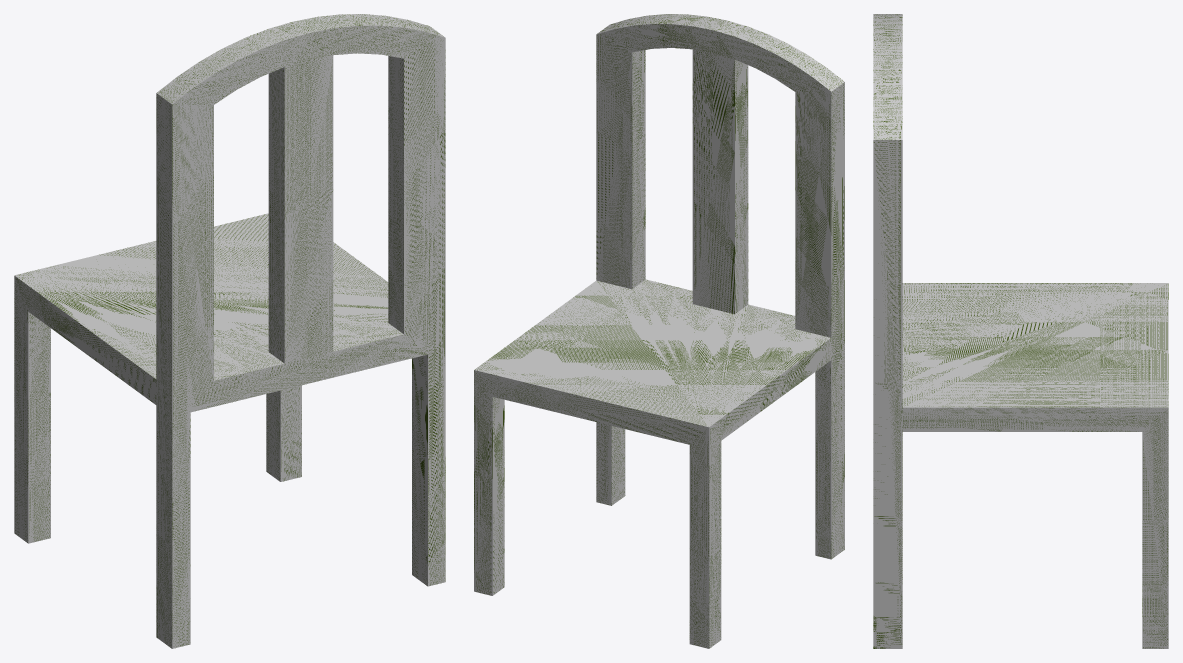
The picture shows the model from 3 angles, left to right: view 1: azimuth 30°, elevation 25°; view 2: azimuth 150°, elevation 25°; view 3: azimuth 270°, elevation 25°; orthographic projection. The views are drawn at different scales.
Parts seen in each view (by area): view 1: mesh1_mesh1-geometry; view 2: mesh1_mesh1-geometry; view 3: mesh1_mesh1-geometry.
Part boxes in pixels (x1,y1,x2,y2): mesh1_mesh1-geometry: [14, 14, 445, 648]; mesh1_mesh1-geometry: [474, 14, 844, 648]; mesh1_mesh1-geometry: [873, 14, 1168, 648].
Bounding box in the file's own units: 0.4037 × 0.821 × 0.4037.
